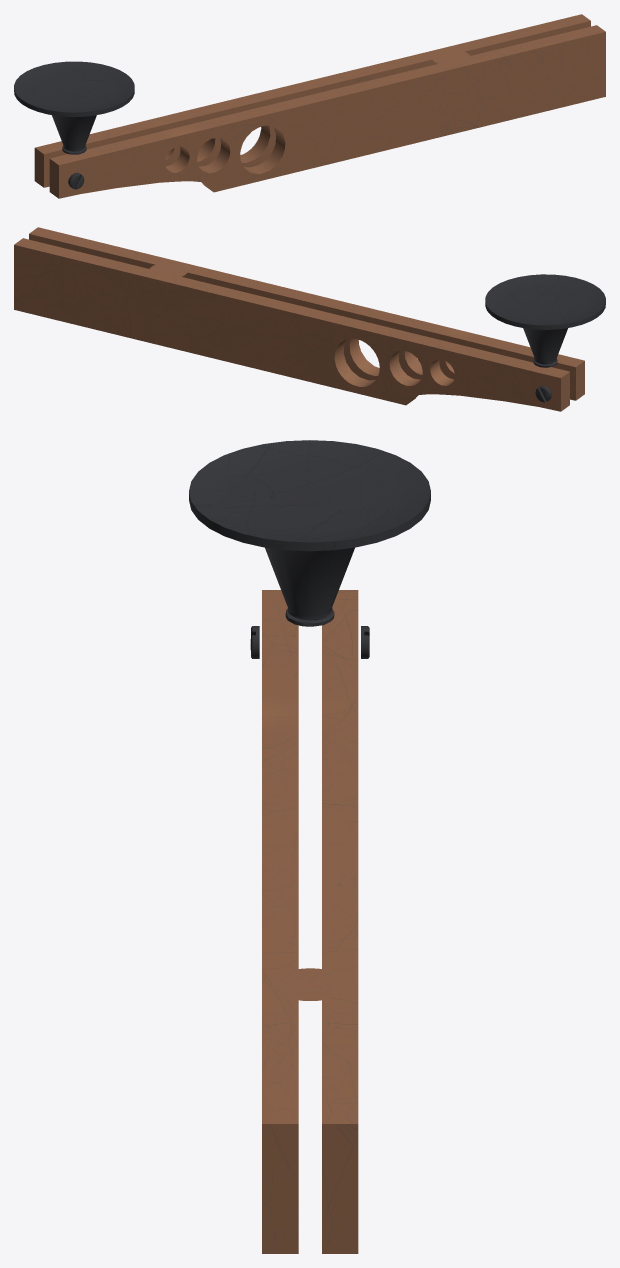
File: telegraph-bar.glb
3 views of the same model, one above another, from view 1: azimuth 30°, elevation 25°; view 2: azimuth 150°, elevation 25°; view 3: azimuth 270°, elevation 25° (orthographic). The views are drawn at different scales.
Visible parts, largest first — view 1: Telegraph.001; view 2: Telegraph.001; view 3: Telegraph.001.
Boxes of the visible parts, x1=… form: Telegraph.001: x1=14, y1=14, x2=605, y2=198; Telegraph.001: x1=14, y1=227, x2=605, y2=411; Telegraph.001: x1=189, y1=440, x2=430, y2=1253.
Size of the model in its own units: 1.05 by 0.2231 by 0.1916.
Materials: 2 (2 with a texture image).
